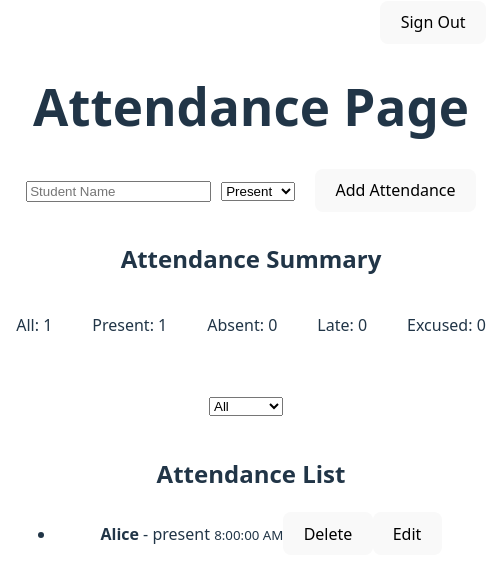
it: AttendancePage › deletes an attendance entry successfully
Expected: the text "Alice" is shown, [100,523,139,545]
Click the button "Delete": (328, 534) [284,512,372,555]
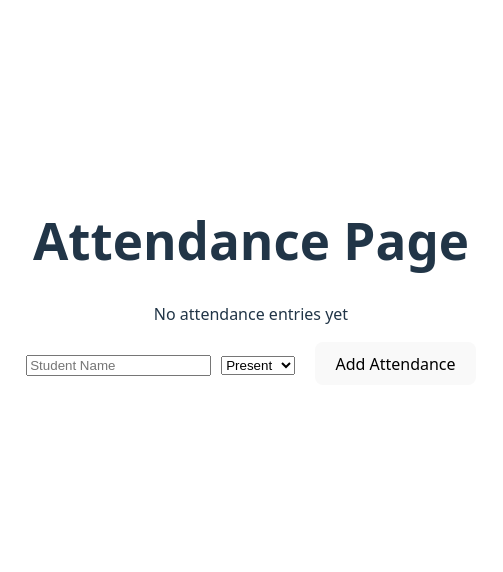
Expected: the text "Alice" is gone
